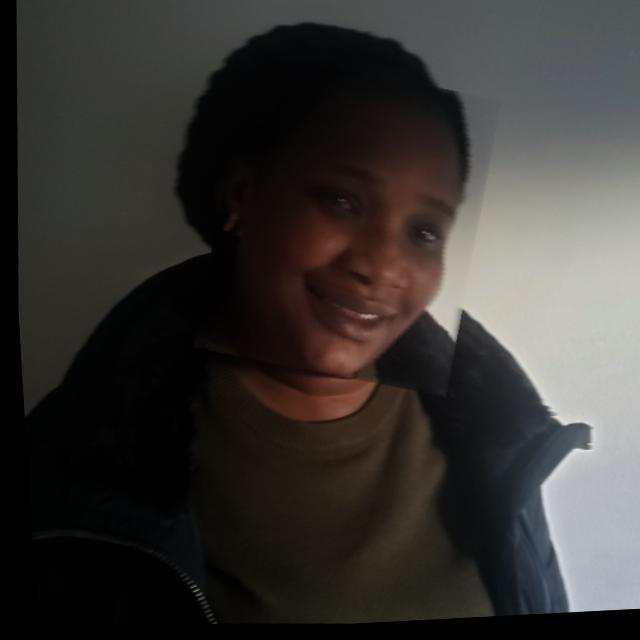happy: (186, 53, 502, 403)
